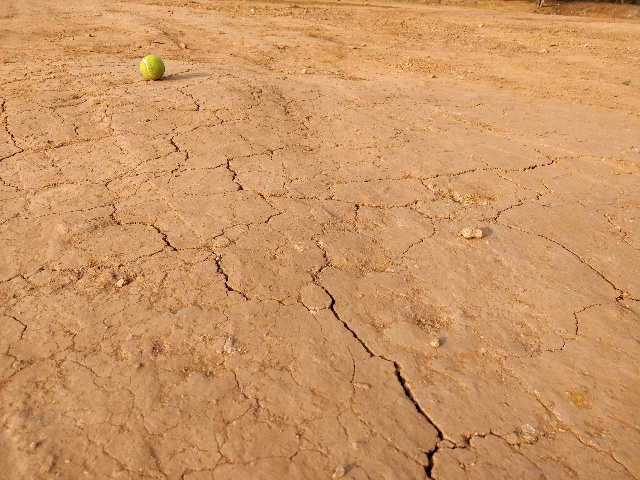ball: (136, 51, 171, 82)
